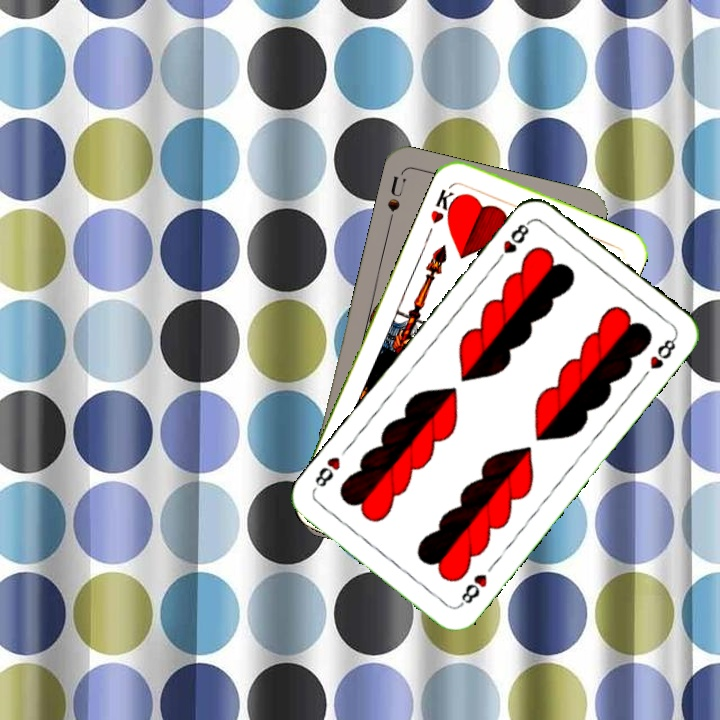H8: (491, 217, 533, 267), (454, 569, 490, 610)
HK: (426, 179, 463, 227)
SU: (383, 171, 408, 228)
